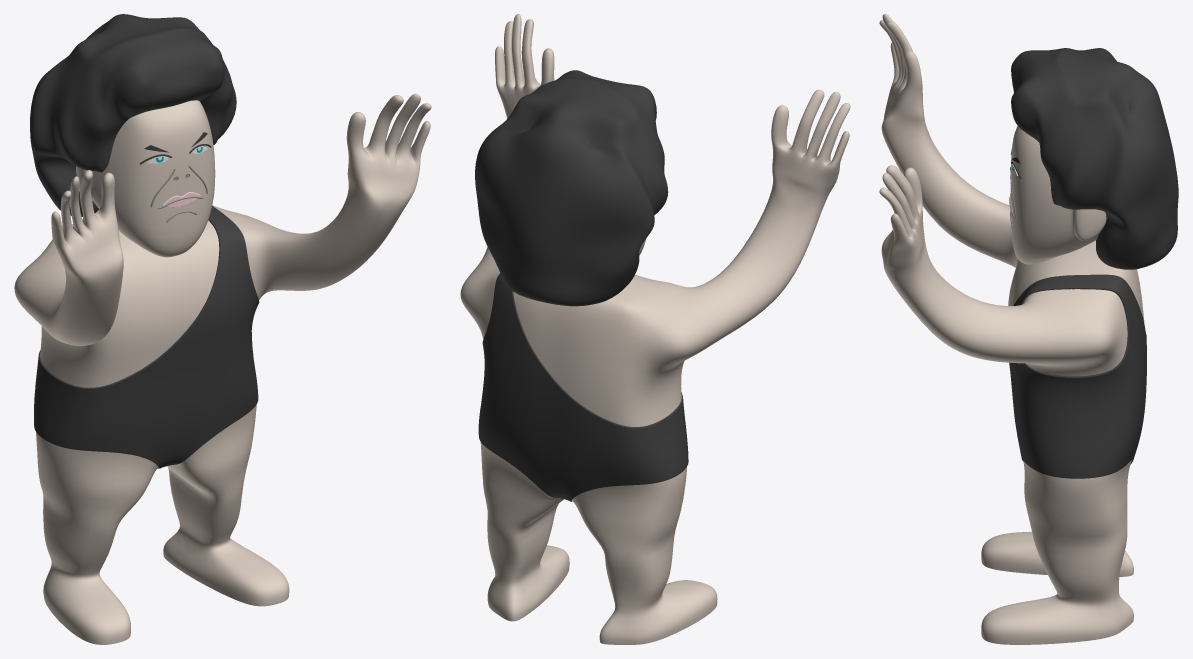
3 renders of one model, left to right at view 1: azimuth 30°, elevation 25°; view 2: azimuth 150°, elevation 25°; view 3: azimuth 270°, elevation 25°, orthographic. The views are drawn at different scales.
Visible parts, largest first — view 1: 010_andthegiant; view 2: 010_andthegiant; view 3: 010_andthegiant.
Part boxes in pixels (x1=…): 010_andthegiant: x1=14, y1=14, x2=431, y2=644; 010_andthegiant: x1=460, y1=14, x2=850, y2=644; 010_andthegiant: x1=879, y1=14, x2=1178, y2=644.
Bounding box in the file's own units: 0.1818 × 0.2579 × 0.1301.
